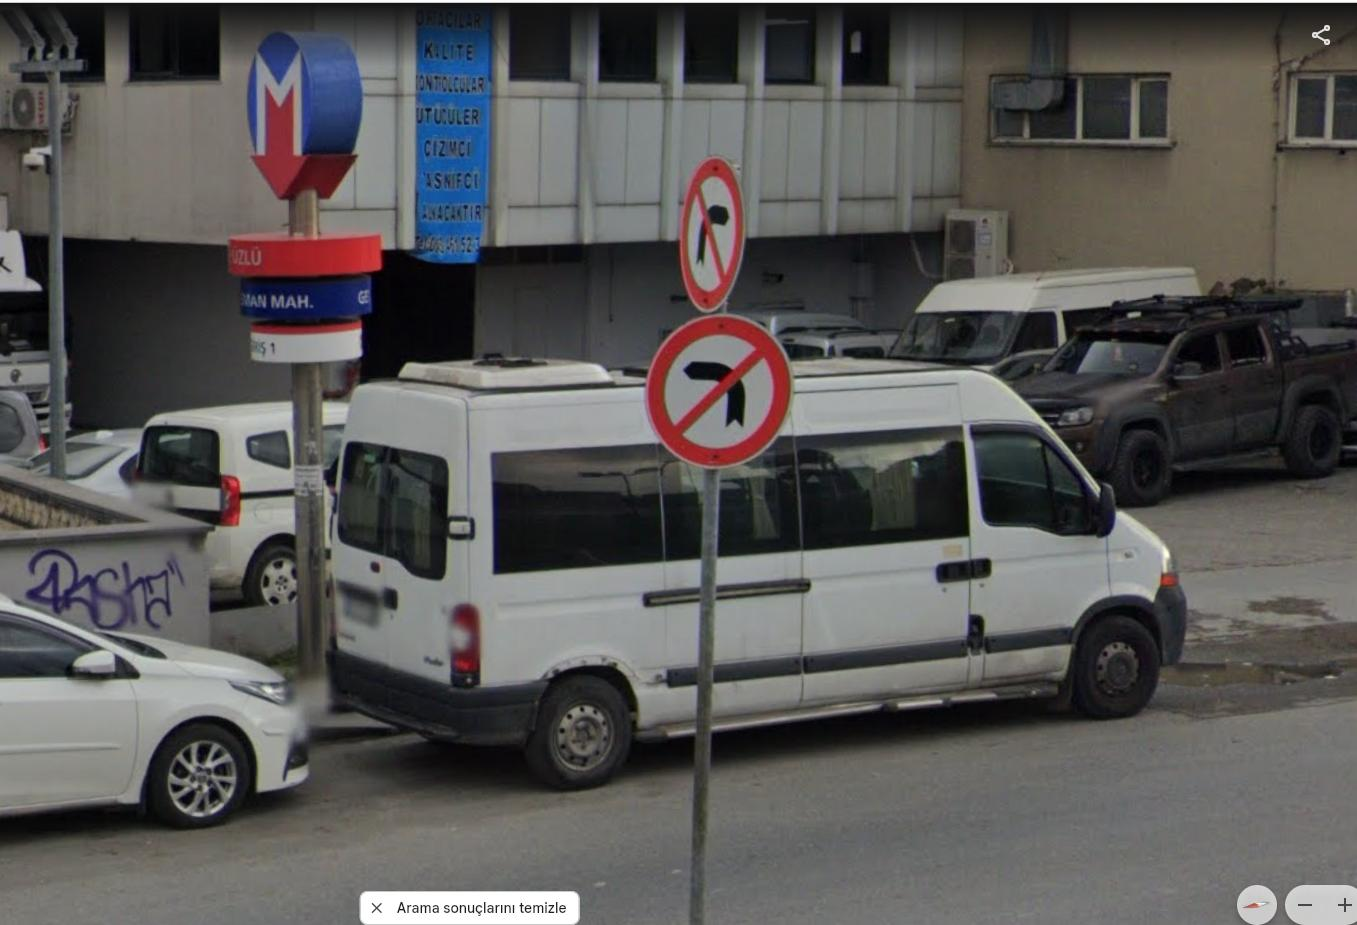leftturnsareforbidden: (653, 318, 782, 460)
rightturnsareforbidden: (684, 159, 742, 308)
